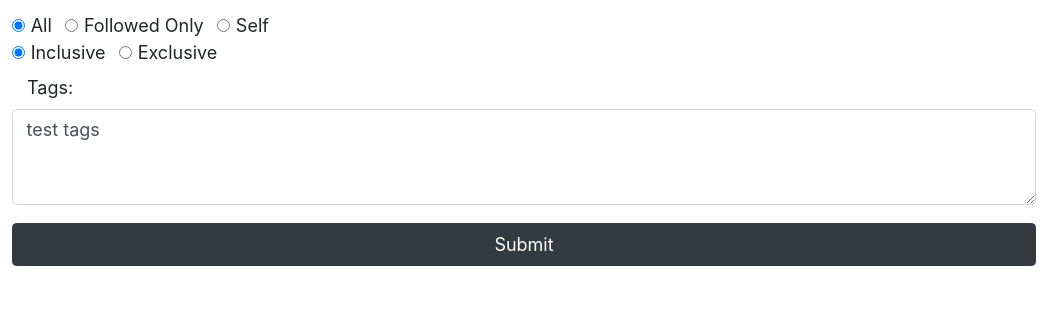
component › error with tags (characters/length)
The width and height of the screenshot is (1048, 323).
Replace the text in the text box labelled "Tags:" with "tag|" at (524, 157), box [12,108,1036,205]
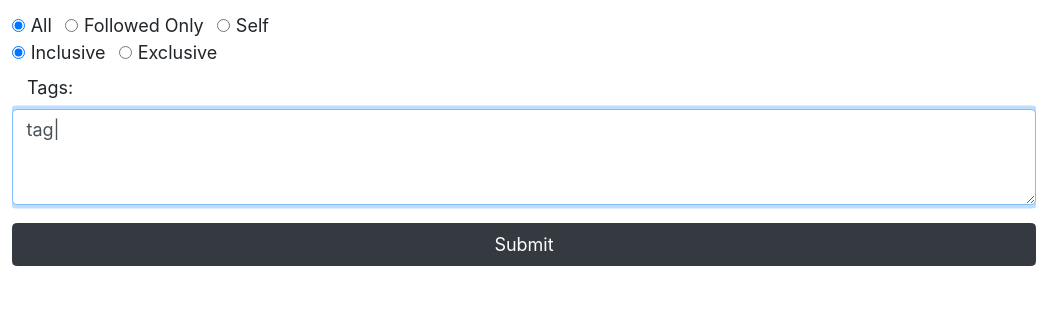
Click the button "Submit" at (524, 244), box [12,223,1036,266]
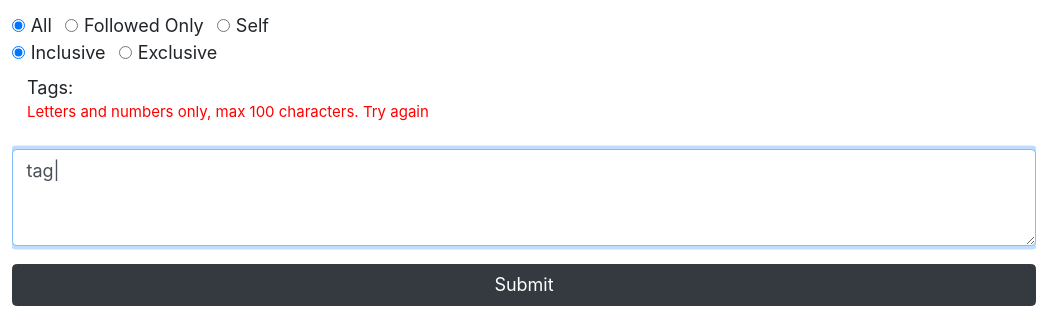
Expected: the text "Letters and numbers only, max 100 characters. Try again" is shown, [27,102,429,121]
